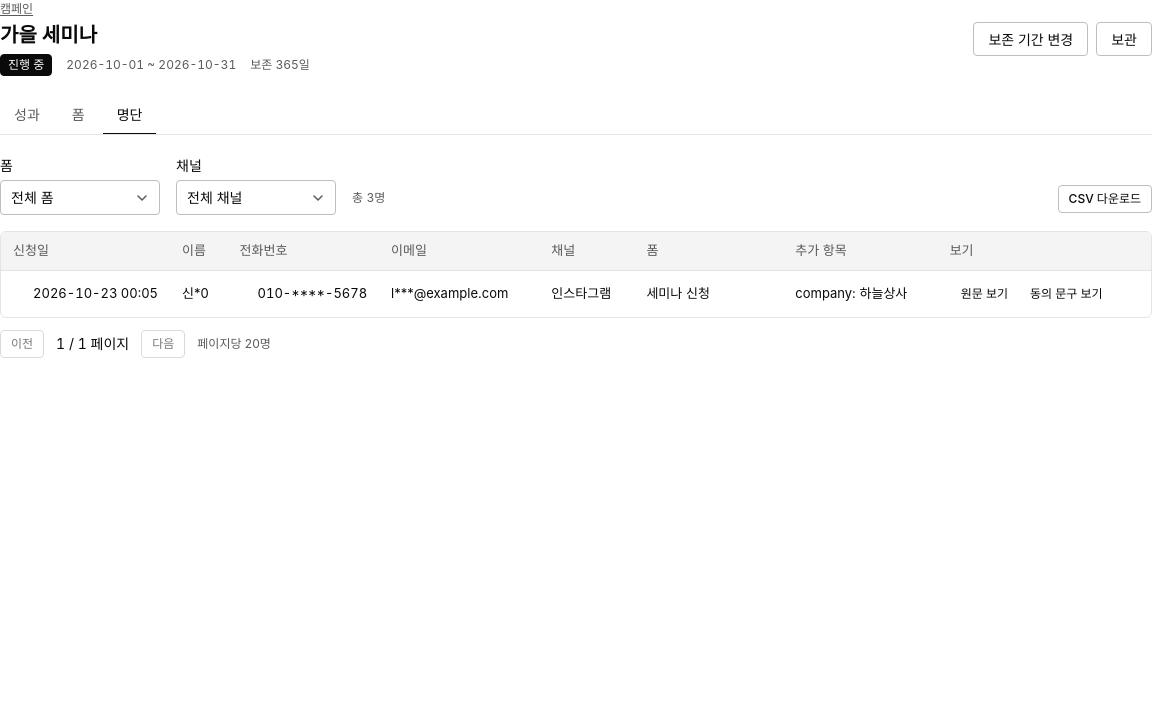
it: 명단 CSV 다운로드 › 원문은 감사 로그에 남는다는 확인을 거친 뒤 reveal=true로 내려받는다
Expected: the text "신*0" is shown, [170, 270, 228, 316]
Step 1. Click the button "CSV 다운로드" → click(1105, 199), box [1058, 185, 1151, 213]
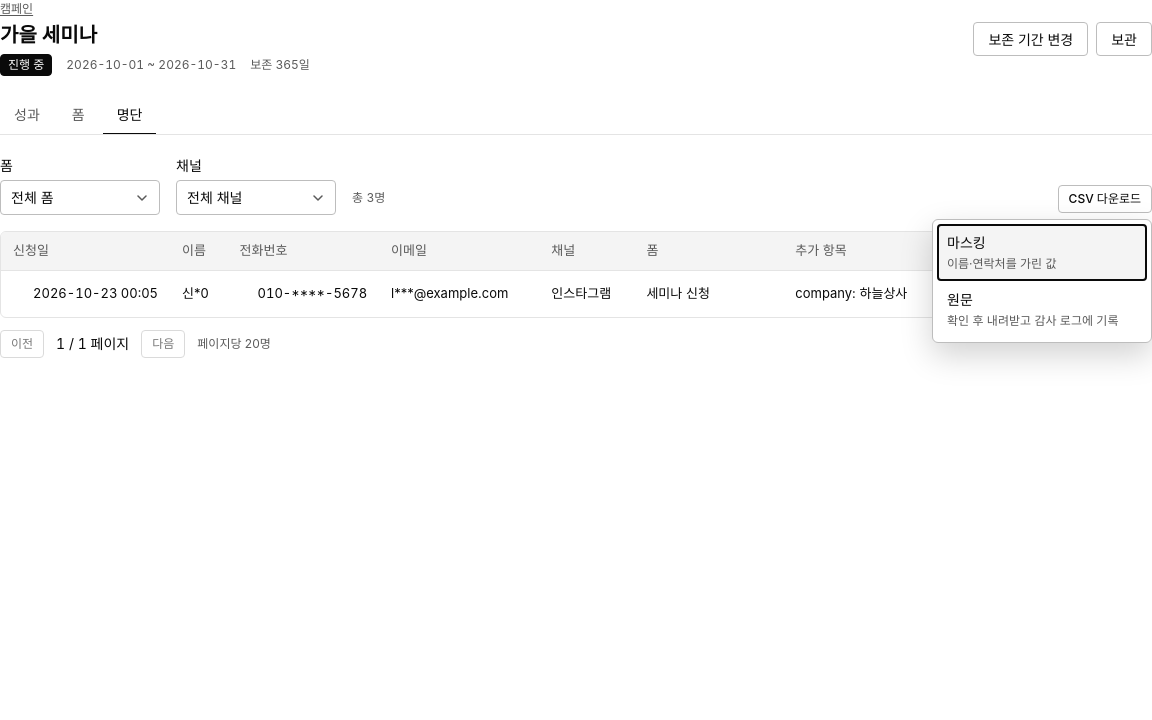
Step 2. Click the menu item "원문 확인 후 내려받고 감사 로그에 기록" → click(1042, 310), box [937, 281, 1147, 338]
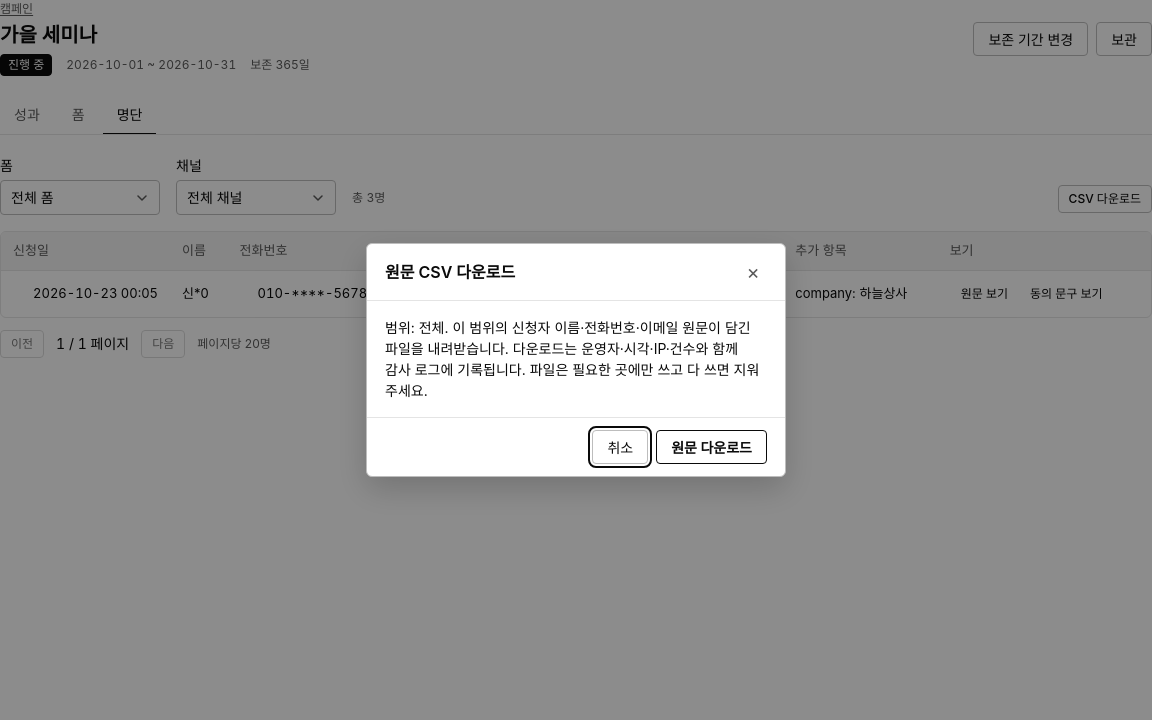
Expected: the dialog "원문 CSV 다운로드" shows "감사 로그에 기록", [385, 319, 759, 399]
Expected: the dialog "원문 CSV 다운로드" shows "범위: 전체.", [385, 319, 759, 399]
Step 3. Click the button "원문 다운로드" → click(712, 447), box [656, 430, 767, 464]
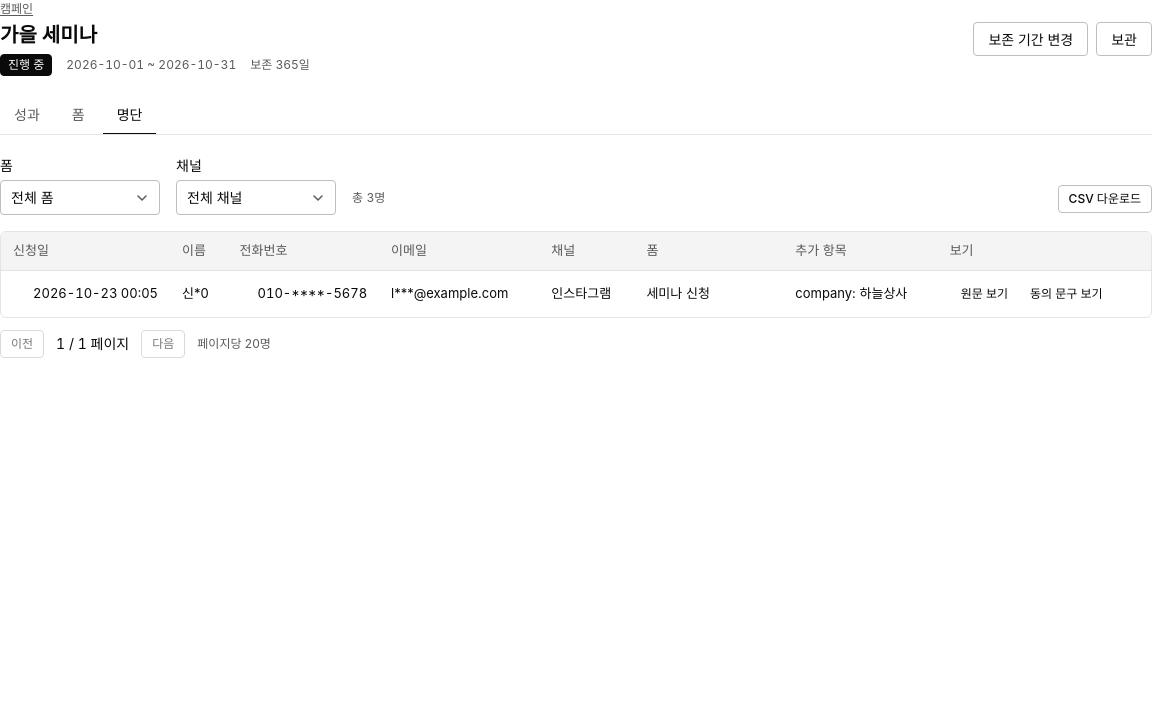
Expected: the dialog is gone
